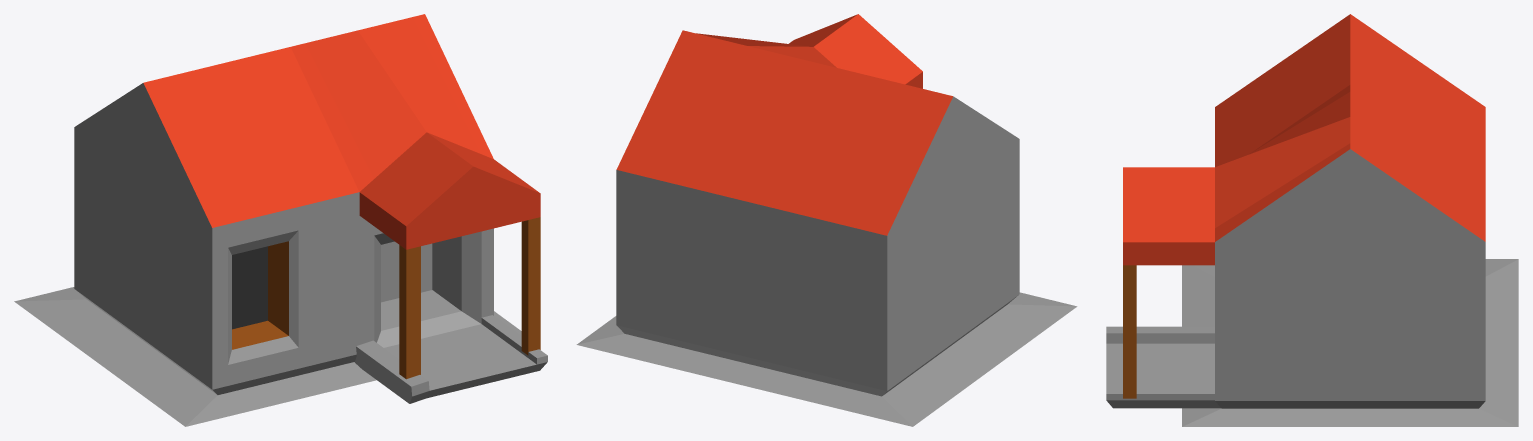
The model's file is house3 1.fbx.
The picture shows the model from 3 angles, left to right: view 1: azimuth 30°, elevation 25°; view 2: azimuth 150°, elevation 25°; view 3: azimuth 270°, elevation 25°; orthographic projection. The views are drawn at different scales.
Visible parts, largest first — view 1: Cube; view 2: Cube; view 3: Cube.
Part boxes in pixels (left/top/right/bottom): Cube: left=14, top=14, right=547, bottom=426; Cube: left=576, top=14, right=1077, bottom=426; Cube: left=1106, top=14, right=1518, bottom=426.
Bounding box in the file's own units: 247 × 183 × 257.
